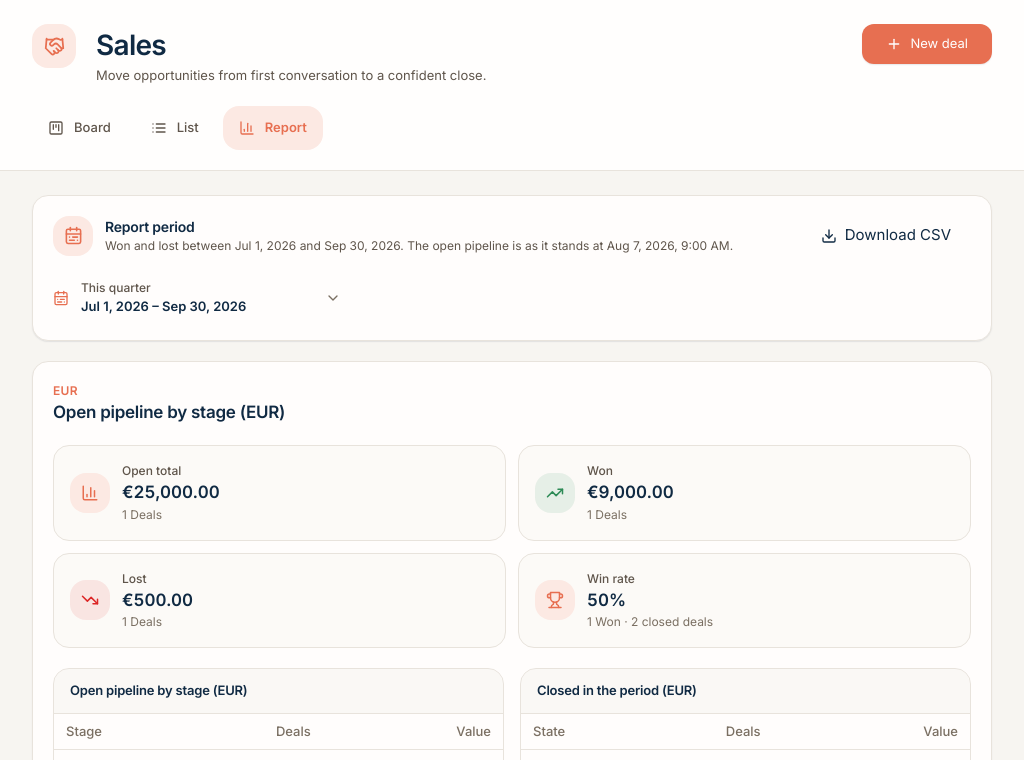
Test: the report › shows the server's figures, keeps the two questions apart, and never sums
This screenshot has width=1024, height=760.
What coordinates should you click on to do the following:
click the button "This quarter Jul 1, 2026 – Sep 30, 2026"
I would click on:
 (197, 298)
Its box is [53, 276, 341, 320].
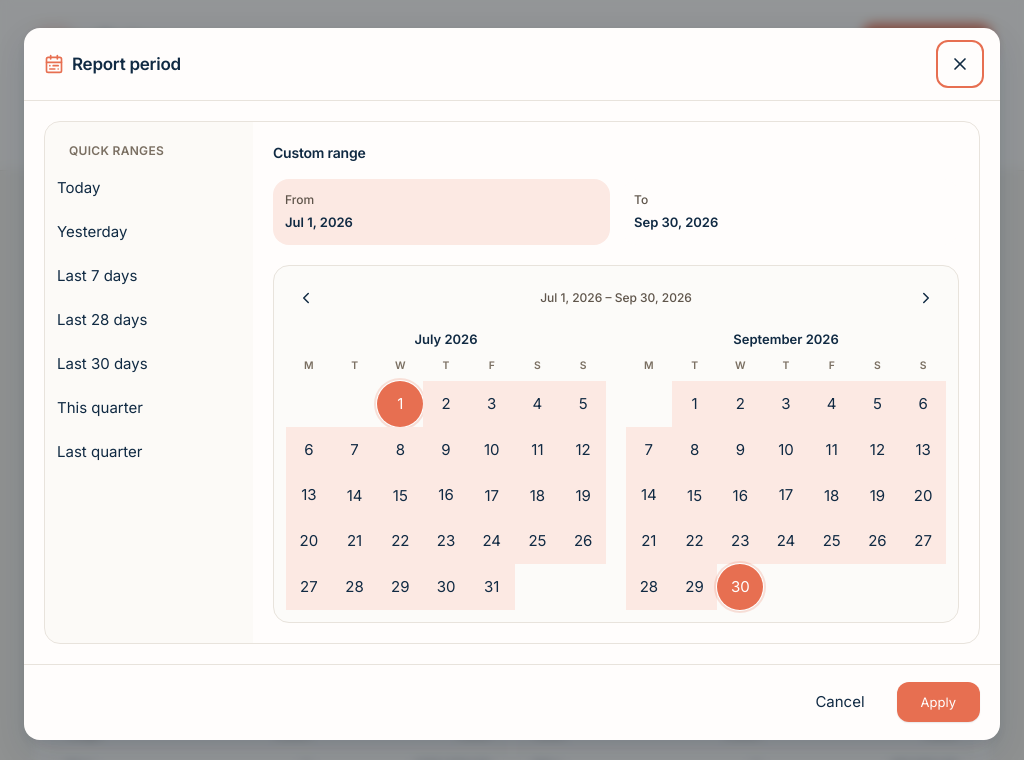
Result: the button "Apply" is shown at [897, 682, 980, 722]
